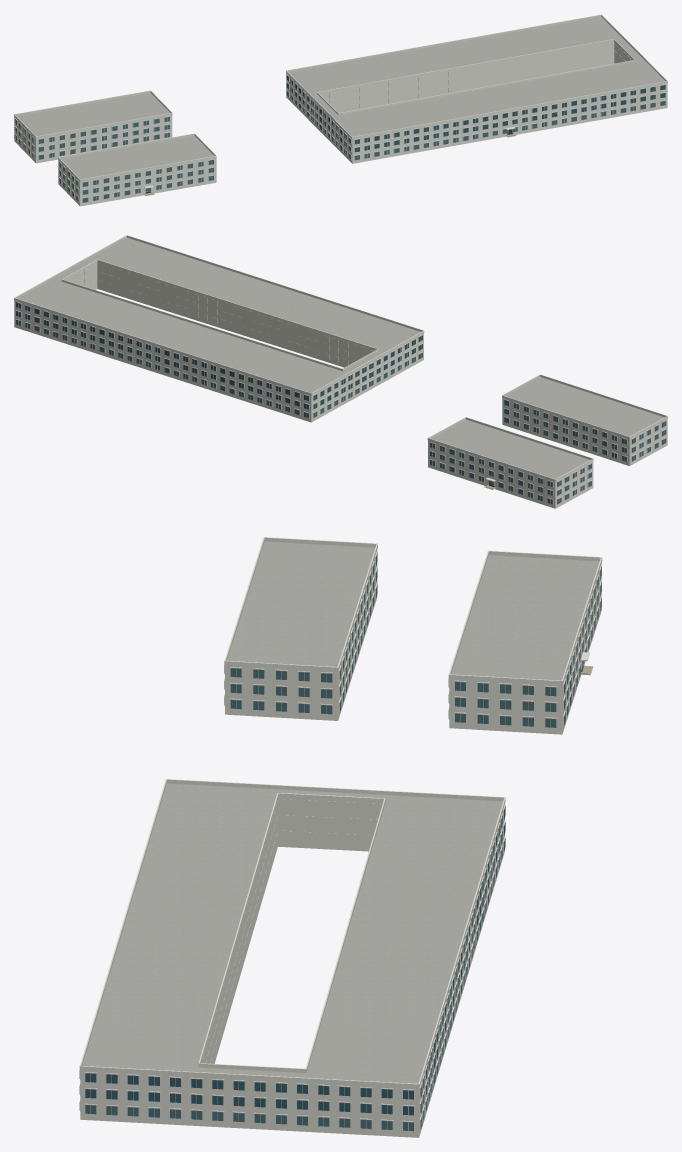
Rendered from chunk-p0-p2.glb.
3 renders of one model, top to bottom at view 1: azimuth 30°, elevation 25°; view 2: azimuth 150°, elevation 25°; view 3: azimuth 270°, elevation 25°, orthographic. The views are drawn at different scales.
Parts seen in each view (by area): view 1: chunk-p0-p2; view 2: chunk-p0-p2; view 3: chunk-p0-p2.
Boxes of the visible parts, x1,y1,x2,y2 form: chunk-p0-p2: [14, 14, 667, 206]; chunk-p0-p2: [14, 235, 667, 508]; chunk-p0-p2: [79, 537, 602, 1137].
Bounding box in the file's own units: 245 × 11.6 × 98.71.
7 materials, 3 textured.
